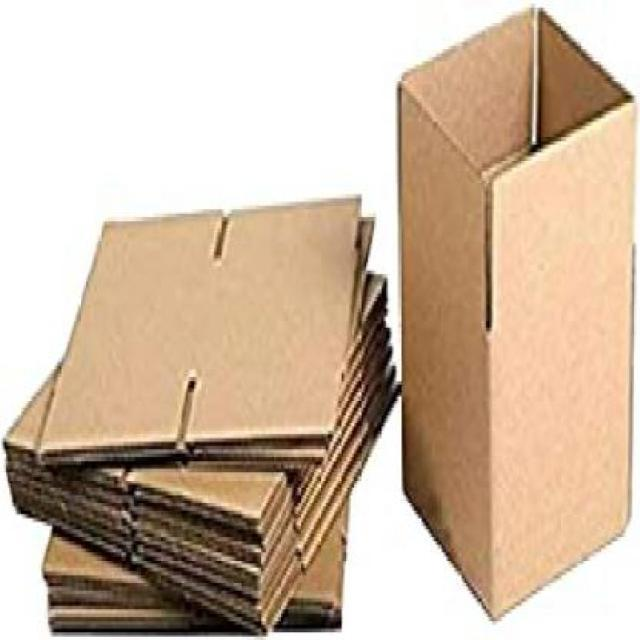box: (398, 15, 628, 618)
